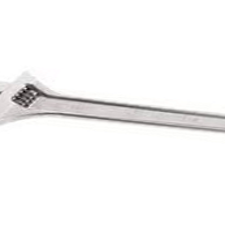Wrench: (6, 62, 225, 158)
